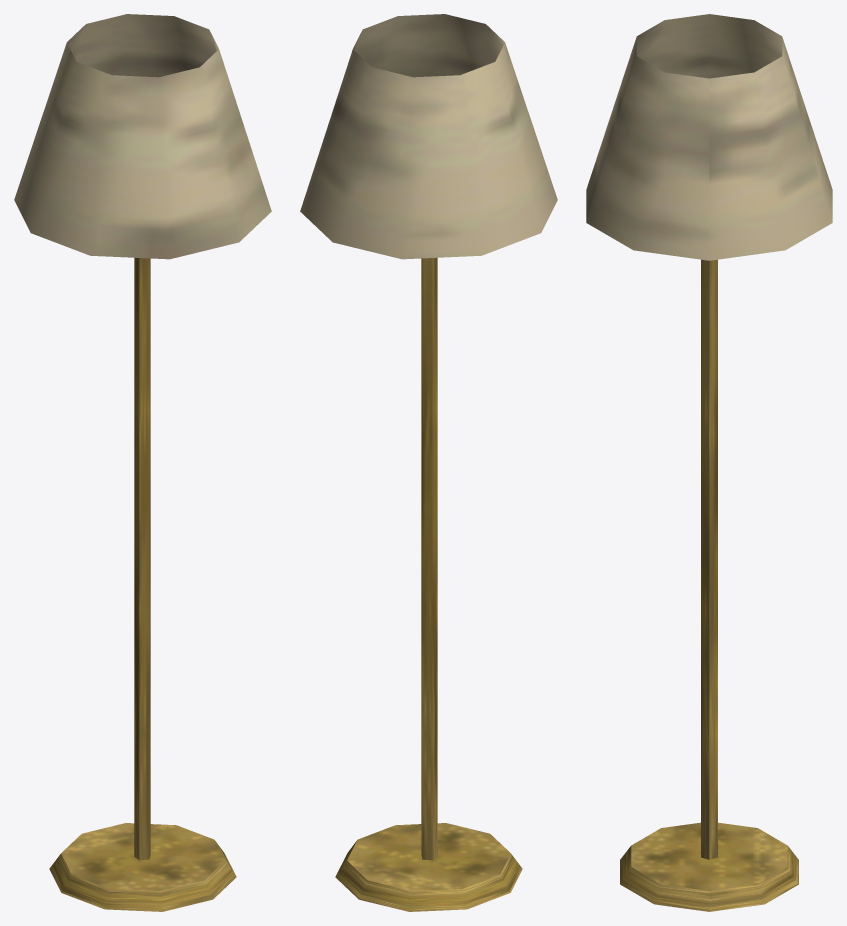
Rendered from floor_lamp.obj.
The picture shows the model from 3 angles, left to right: view 1: azimuth 30°, elevation 25°; view 2: azimuth 150°, elevation 25°; view 3: azimuth 270°, elevation 25°; orthographic projection.
Parts seen in each view (by area): view 1: floor_lamp; view 2: floor_lamp; view 3: floor_lamp.
Boxes of the visible parts, <box> form: floor_lamp: <box>14,14,271,911</box>; floor_lamp: <box>300,14,557,911</box>; floor_lamp: <box>586,14,832,911</box>.
Bounding box in the file's own units: 0.44 × 1.55 × 0.4185.
1 material, 1 textured.
